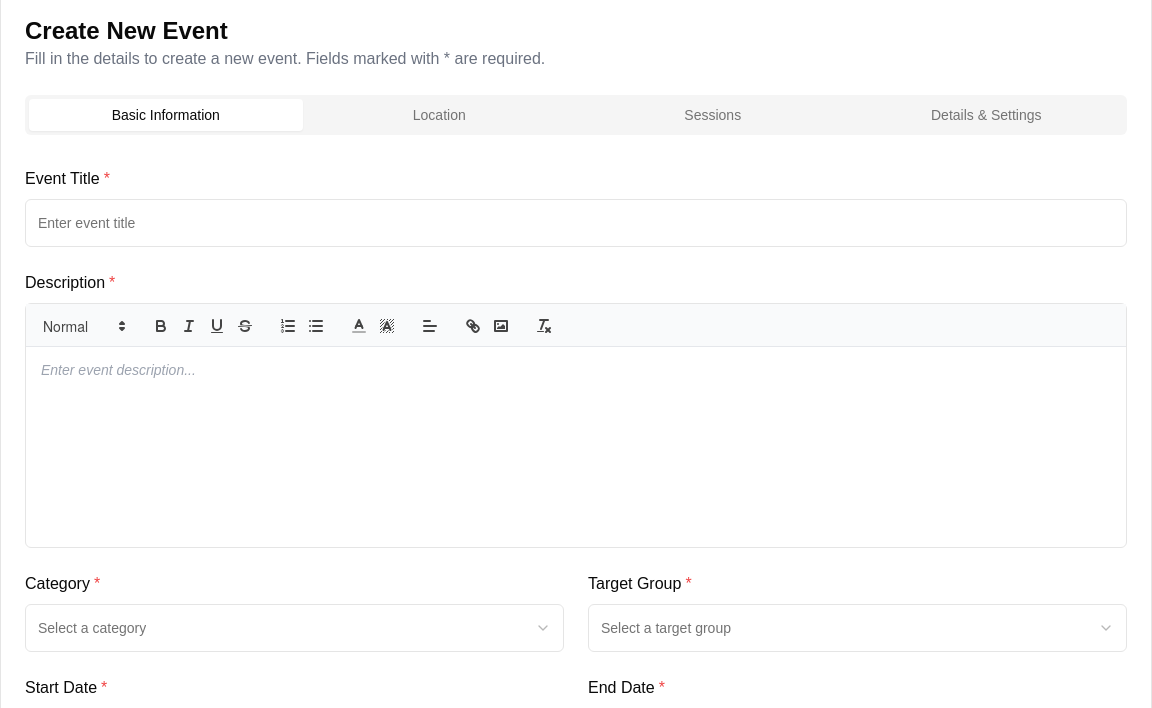
Scenario: NewEventBuilder › renders staff contact fields
Click the tab "Details & Settings". click: (986, 115)
box: [850, 99, 1123, 131]
(page scrolled)
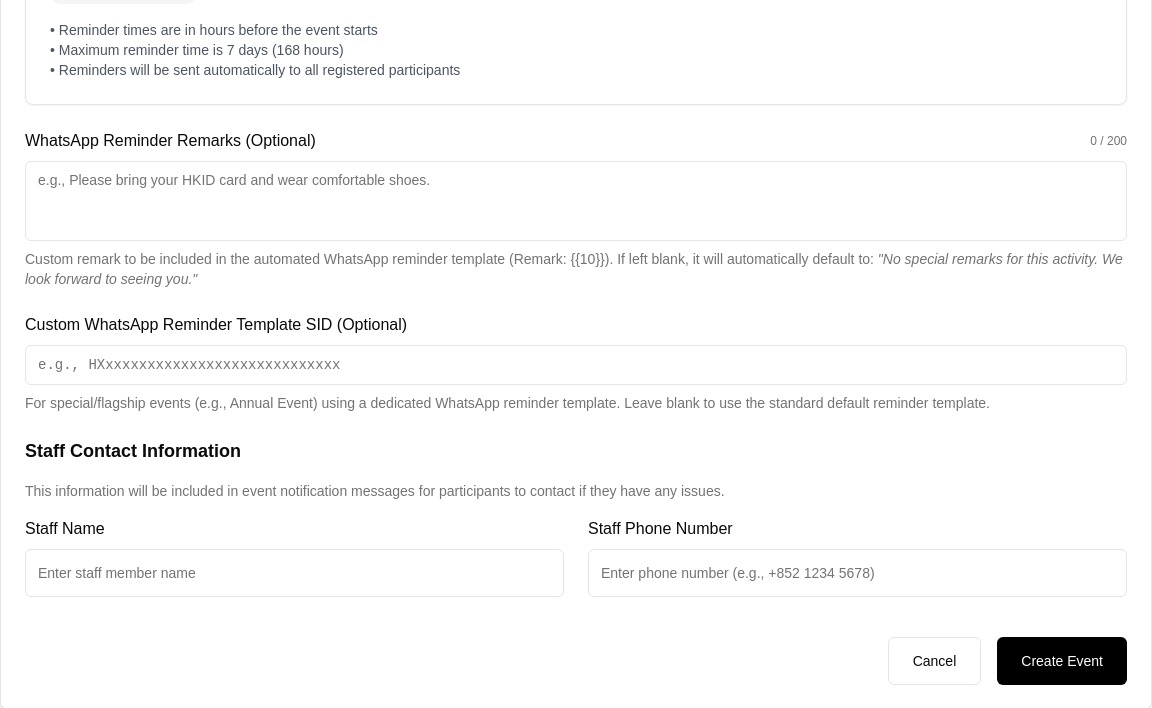
Check: the heading "Staff Contact Information" is shown, box [25, 441, 241, 461]
Check: the field labelled "Staff Name" is shown, box [25, 549, 564, 597]
Check: the field labelled "Staff Phone Number" is shown, box [588, 549, 1127, 597]
